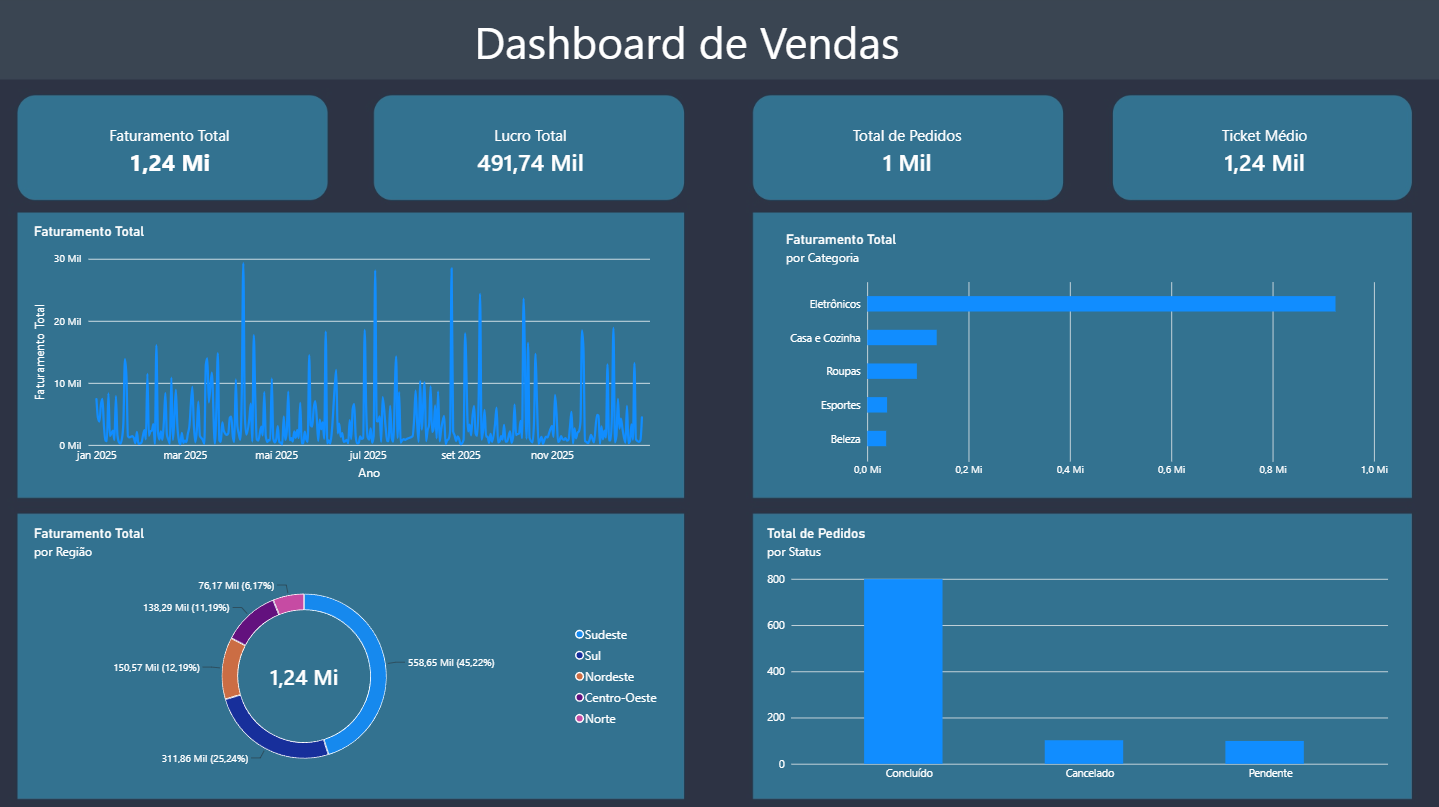

The dashboard page shown, as its layout file describes it:
{"tool":"powerbi","page":{"name":"Página 1","canvas":[1920,1080],"ordinal":0},"visuals":[{"type":"cardVisual","fields":{"Data":["Base_Vendas.Faturamento Total"]},"box":[91.9,150.3,278.7,113.8],"z":0},{"type":"cardVisual","fields":{"Data":["Base_Vendas.Lucro Total"]},"box":[571.9,150.3,278.7,113.8],"z":1000},{"type":"cardVisual","fields":{"Data":["Base_Vendas.Total de Pedidos"]},"box":[1073.8,150.3,277.2,113.8],"z":2000},{"type":"cardVisual","fields":{"Data":["Base_Vendas.Ticket Médio"]},"box":[1548,150.3,278.7,113.8],"z":3000},{"type":"lineChart","title":"Faturamento Total ","fields":{"Category":["Base_Vendas.Data.Variation.Hierarquia de datas.Ano","Base_Vendas.Data.Variation.Hierarquia de datas.Trimestre","Base_Vendas.Data.Variation.Hierarquia de datas.Mês","Base_Vendas.Data.Variation.Hierarquia de datas.Dia"],"Y":["Base_Vendas.Faturamento Total"]},"box":[35,288.9,869.5,370.6],"z":4000},{"type":"barChart","fields":{"Category":["Base_Vendas.Categoria"],"Y":["Base_Vendas.Faturamento Total"]},"box":[1034.4,299.1,833.1,360.4],"z":5000},{"type":"donutChart","fields":{"Category":["Base_Vendas.Região"],"Y":["Base_Vendas.Faturamento Total"]},"box":[35,690.1,869.5,370.6],"z":6000},{"type":"columnChart","fields":{"Category":["Base_Vendas.Status"],"Y":["Base_Vendas.Total de Pedidos"]},"box":[1009.6,690.1,857.9,375],"z":7000},{"type":"textbox","box":[272.8,21.9,1292.6,93.4],"z":7001}]}

Visuals, with their boxes in screenshot pixels (x1, y1, x2, y2), scaled from the page's 1920x1080 canvas onto the 1439x807 screenshot:
cardVisual - Base_Vendas.Faturamento Total: (69, 112, 278, 197)
cardVisual - Base_Vendas.Lucro Total: (429, 112, 638, 197)
cardVisual - Base_Vendas.Total de Pedidos: (805, 112, 1013, 197)
cardVisual - Base_Vendas.Ticket Médio: (1160, 112, 1369, 197)
"Faturamento Total " lineChart: (26, 216, 678, 493)
barChart - Base_Vendas.Categoria x Base_Vendas.Faturamento Total: (775, 223, 1400, 493)
donutChart - Base_Vendas.Região x Base_Vendas.Faturamento Total: (26, 516, 678, 793)
columnChart - Base_Vendas.Status x Base_Vendas.Total de Pedidos: (757, 516, 1400, 796)
textbox: (204, 16, 1173, 86)
